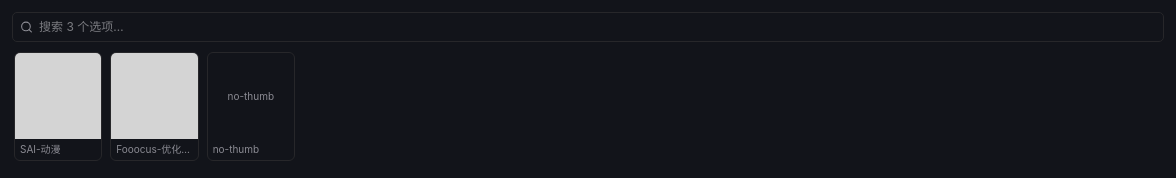
Test: OptionThumbGrid › 搜索无结果给提示而不是空白
Type "zzz" into the field named "搜索选项" at (588, 27), box [12,12,1164,42]
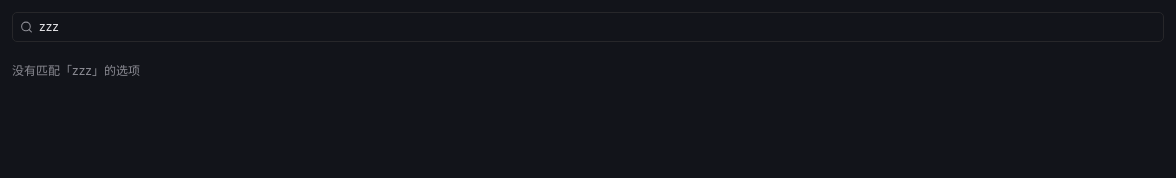
Expected: the text "没有匹配「zzz」的选项" is shown, [12,63,140,78]
